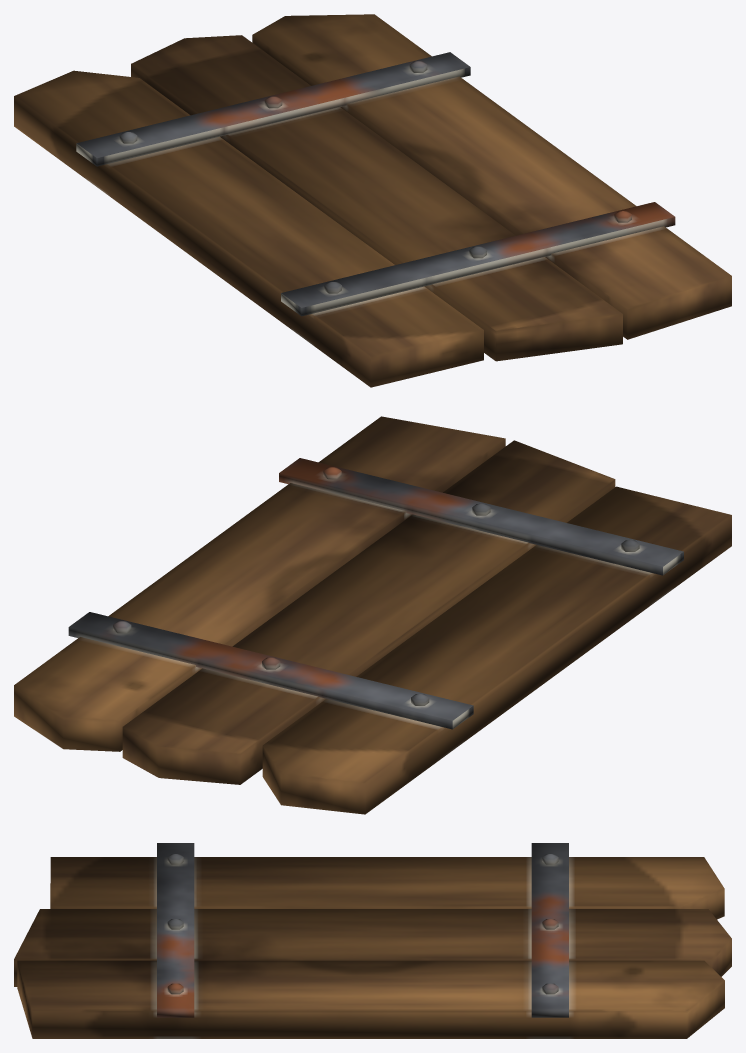
The model's file is Prop_ShieldPlank.fbx.
3 views of the same model, one above another, from view 1: azimuth 30°, elevation 25°; view 2: azimuth 150°, elevation 25°; view 3: azimuth 270°, elevation 25° (orthographic). The views are drawn at different scales.
Visible parts, largest first — view 1: Prop_ShieldPlank; view 2: Prop_ShieldPlank; view 3: Prop_ShieldPlank.
Boxes of the visible parts, x1,y1,x2,y2 form: Prop_ShieldPlank: [14, 14, 731, 387]; Prop_ShieldPlank: [14, 416, 731, 814]; Prop_ShieldPlank: [14, 843, 731, 1038].
Size of the model in its own units: 0.232 by 0.037 by 0.4216.
